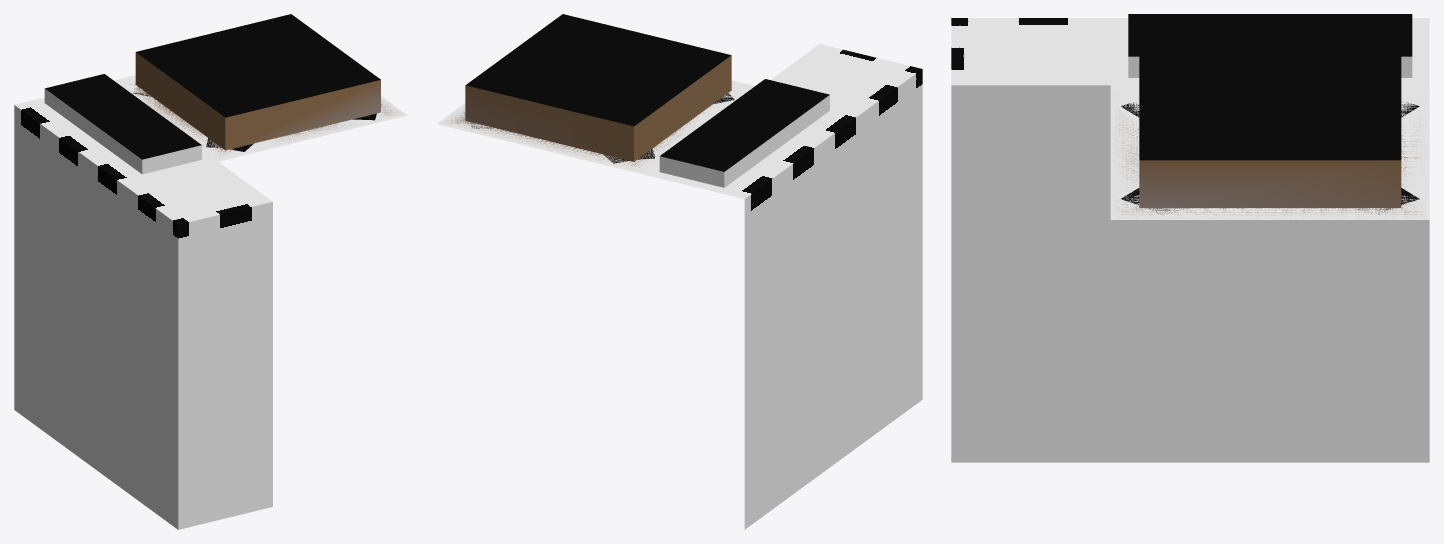
The model's file is models.gltf.
3 renders of one model, left to right at view 1: azimuth 30°, elevation 25°; view 2: azimuth 150°, elevation 25°; view 3: azimuth 270°, elevation 25°, orthographic. The views are drawn at different scales.
Visible parts, largest first — view 1: TileCorner, TileEdge, CityCenter, CityEdge, CanalLockCenter, TileCenter; view 2: TileEdge, CityCenter, TileCorner, CityEdge, CanalLockCenter, TileCenter; view 3: TileEdge, TileCorner, CityCenter, CityEdge, TileCenter, CanalLockCenter.
Boxes of the visible parts, left/top/right/bottom form: TileCorner: left=123, top=162, right=272, bottom=529; TileEdge: left=14, top=97, right=217, bottom=489; CityCenter: left=115, top=14, right=406, bottom=160; CityEdge: left=33, top=74, right=217, bottom=180; CanalLockCenter: left=114, top=75, right=404, bottom=160; TileCenter: left=114, top=78, right=407, bottom=161; TileEdge: left=642, top=104, right=863, bottom=529; CityCenter: left=438, top=14, right=753, bottom=173; TileCorner: left=771, top=44, right=922, bottom=442; CityEdge: left=642, top=79, right=846, bottom=194; CanalLockCenter: left=439, top=81, right=754, bottom=173; TileCenter: left=437, top=80, right=754, bottom=173; TileEdge: left=1110, top=18, right=1429, bottom=462; TileCorner: left=951, top=18, right=1110, bottom=462; CityCenter: left=1110, top=49, right=1429, bottom=219; CityEdge: left=1110, top=14, right=1429, bottom=85; TileCenter: left=1110, top=85, right=1429, bottom=219; CanalLockCenter: left=1110, top=85, right=1429, bottom=219.
Size of the model in its own units: 0.75 by 0.8518 by 0.75.
1 material, 1 textured.
